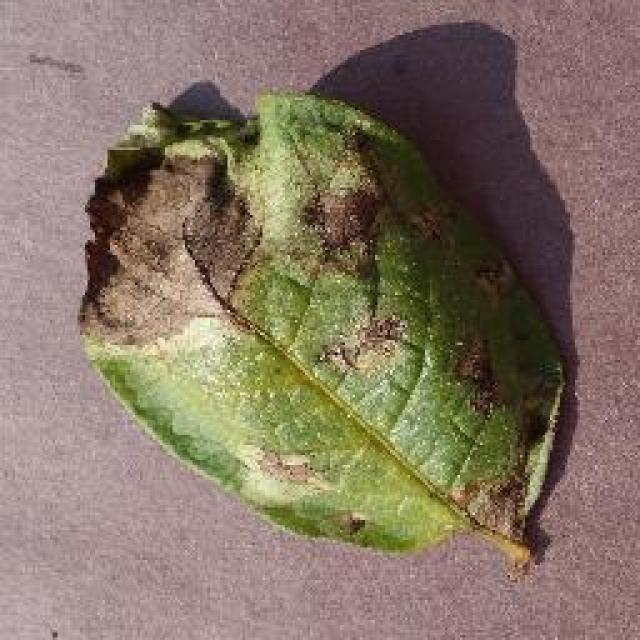Potato___Late_blight: (65, 58, 583, 590)
